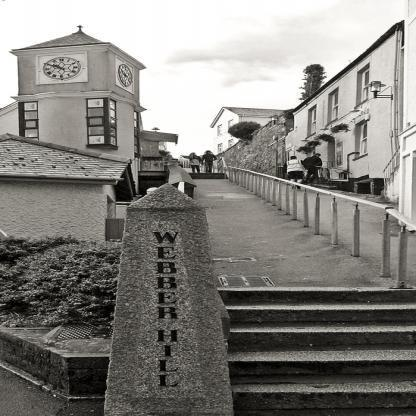stair: (217, 274, 416, 416)
